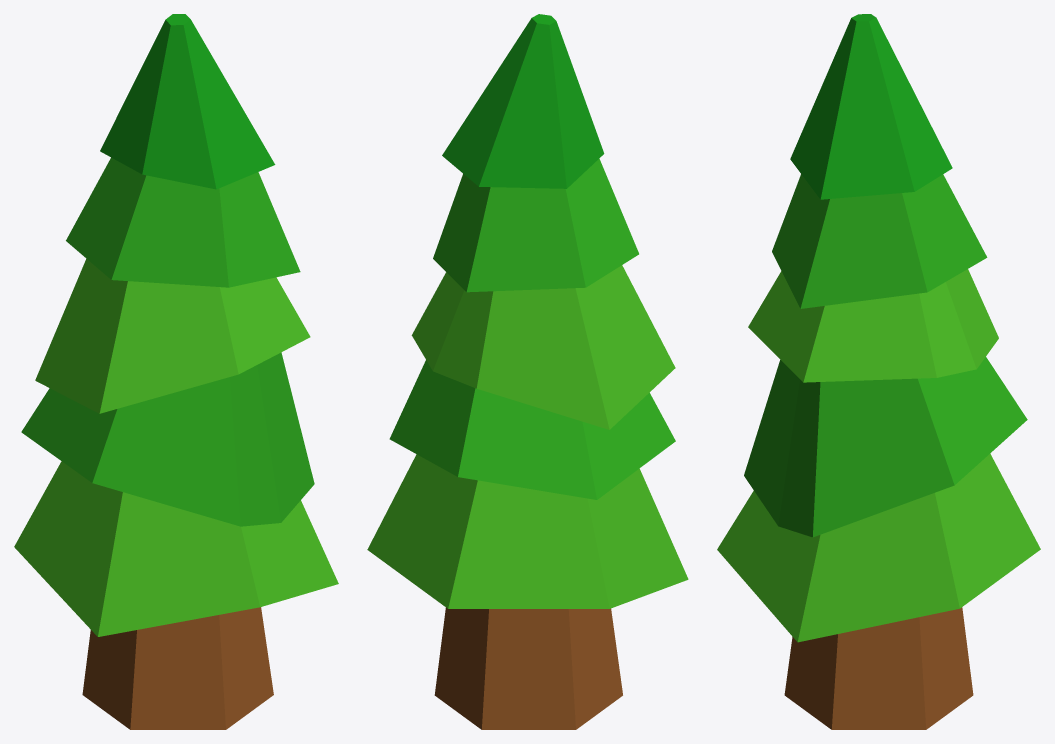
File: Tree 3.2.fbx
3 renders of one model, left to right at view 1: azimuth 30°, elevation 25°; view 2: azimuth 150°, elevation 25°; view 3: azimuth 270°, elevation 25°, orthographic.
Visible parts, largest first — view 1: Cylinder.001; view 2: Cylinder.001; view 3: Cylinder.001.
Boxes of the visible parts, <box> form: Cylinder.001: <box>14,14,338,729</box>; Cylinder.001: <box>367,14,688,729</box>; Cylinder.001: <box>717,14,1040,729</box>.
Size of the model in its own units: 112 by 297 by 129.
